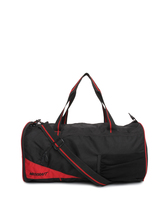bag: (16, 72, 148, 187)
